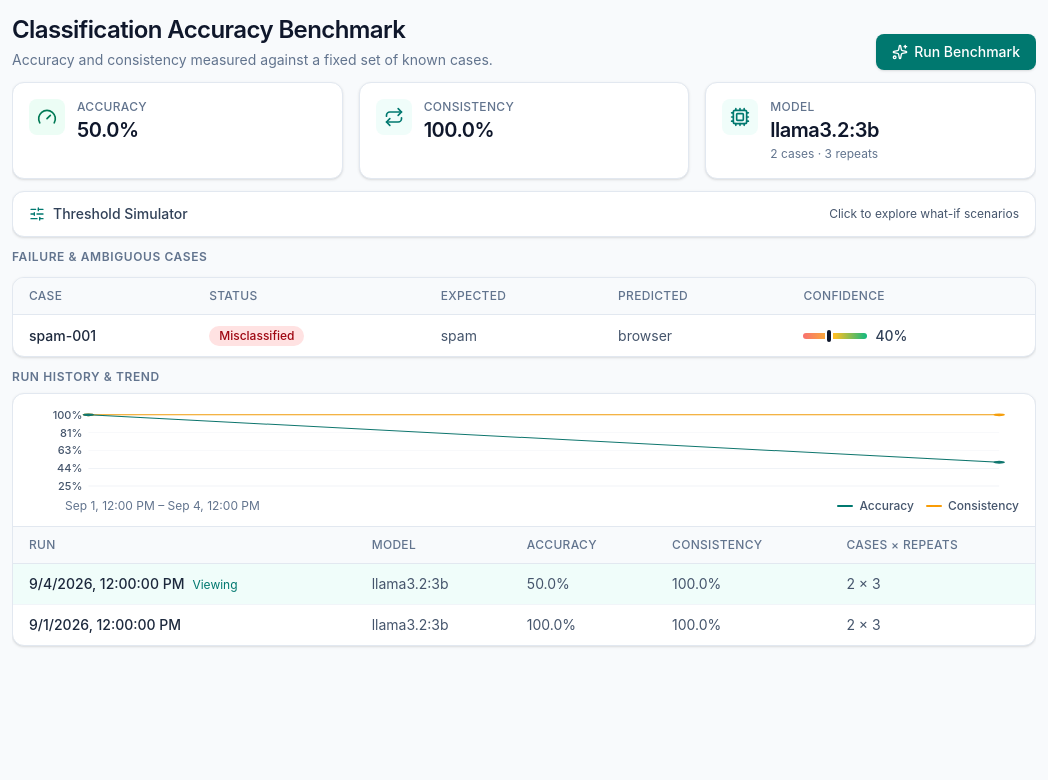
Test: BenchmarkPage › shows an error state when switching to a different run fails
Expected: the heading "Run History & Trend" is shown, [12, 369, 160, 384]
Click the cell "9/1/2026, 12:00:00 PM". click: coordinates (105, 624)
box: [13, 604, 356, 645]
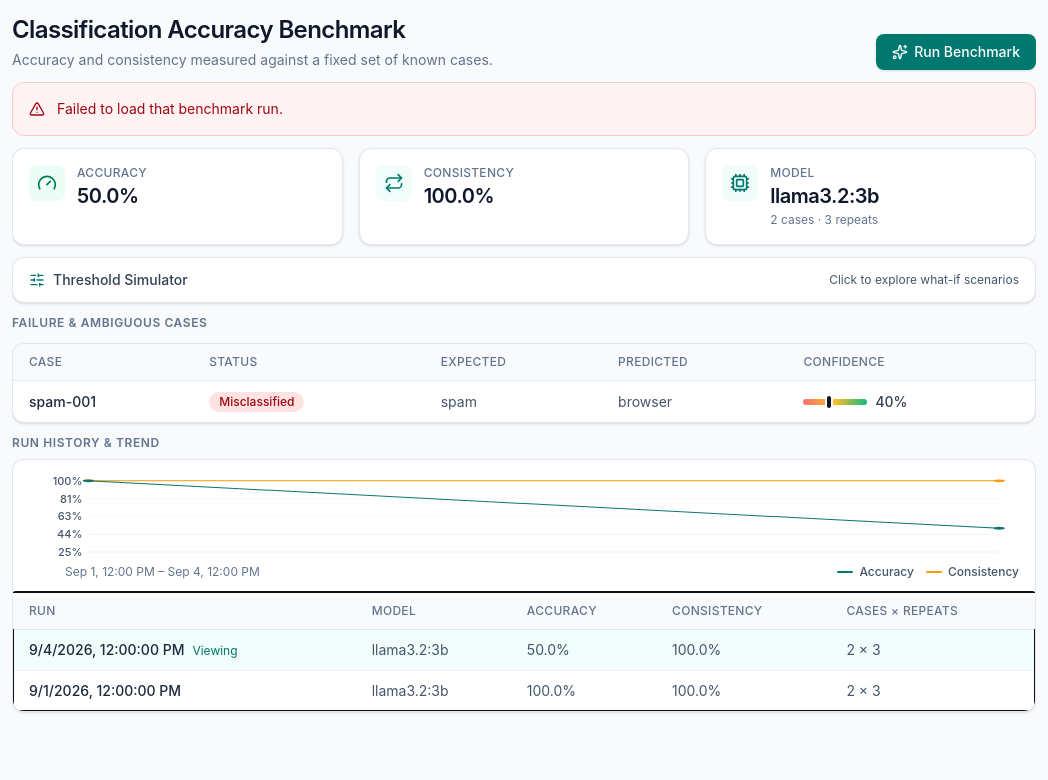
Now the text "Failed to load that benchmark run." is shown, box [57, 99, 283, 119]
